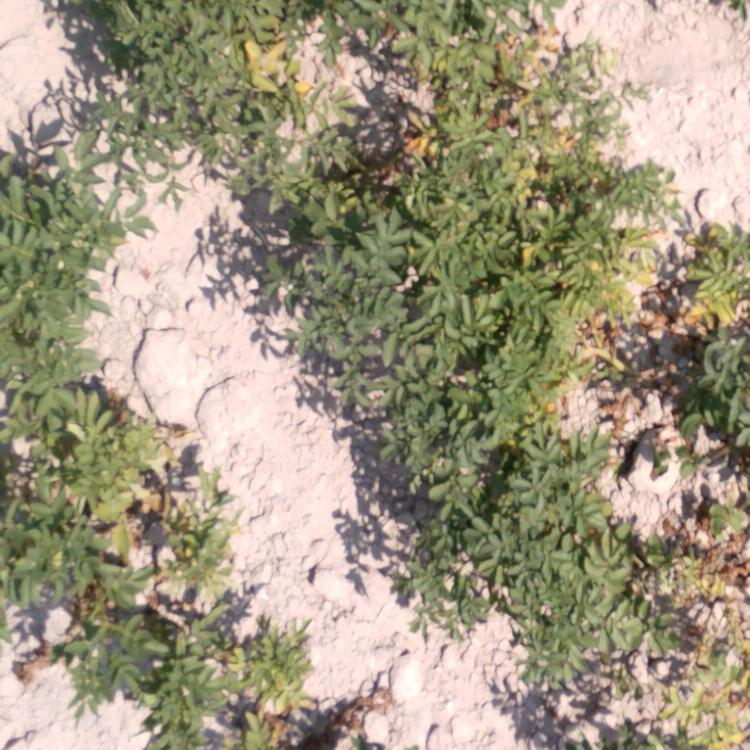healthy: (210, 139, 410, 398), (358, 415, 611, 617), (1, 148, 118, 387), (521, 611, 615, 742)
stressed: (419, 152, 668, 410), (302, 1, 619, 144), (1, 392, 210, 601), (49, 606, 330, 747), (66, 1, 296, 145), (623, 504, 750, 743), (674, 222, 750, 429)
